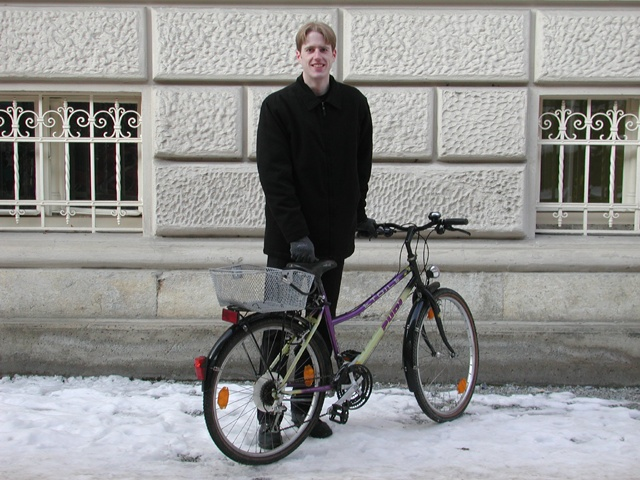person: (249, 20, 366, 449)
